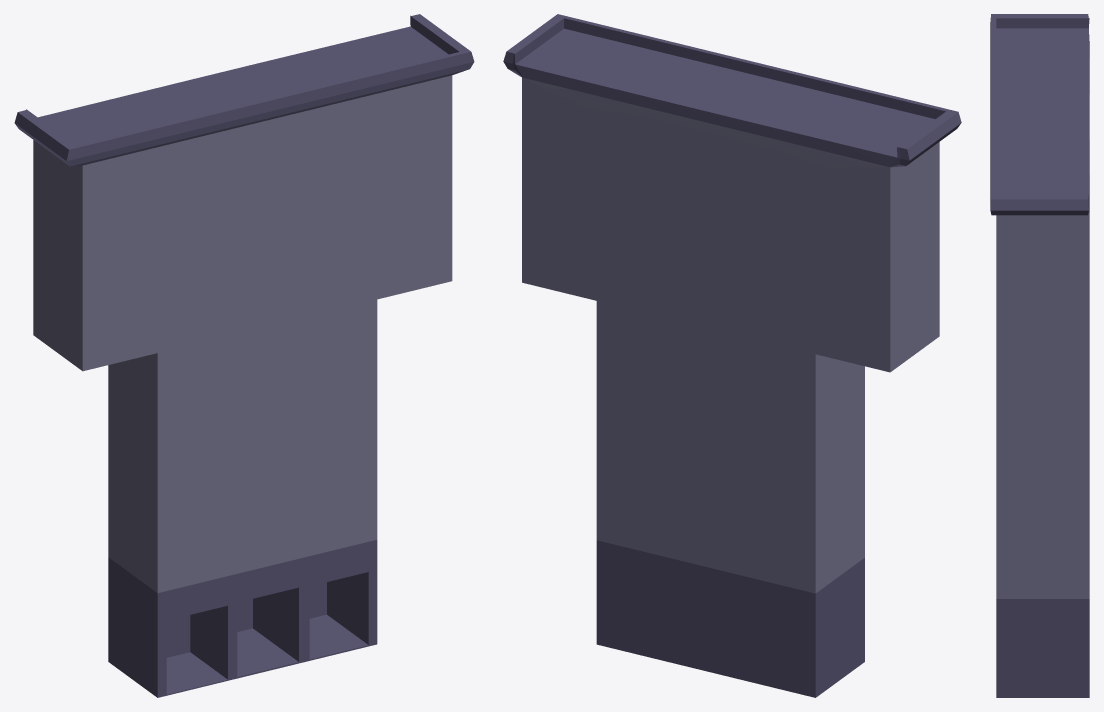
The model's file is building_T_6floors.fbx.
3 views of the same model, side by side, from view 1: azimuth 30°, elevation 25°; view 2: azimuth 150°, elevation 25°; view 3: azimuth 270°, elevation 25° (orthographic). The views are drawn at different scales.
Parts seen in each view (by area): view 1: building_T_6floors; view 2: building_T_6floors; view 3: building_T_6floors.
Part boxes in pixels (<box>): building_T_6floors: <box>14,14,474,697</box>; building_T_6floors: <box>503,14,961,697</box>; building_T_6floors: <box>990,14,1089,697</box>.
Size of the model in its own units: 14.96 by 20.06 by 3.33.
